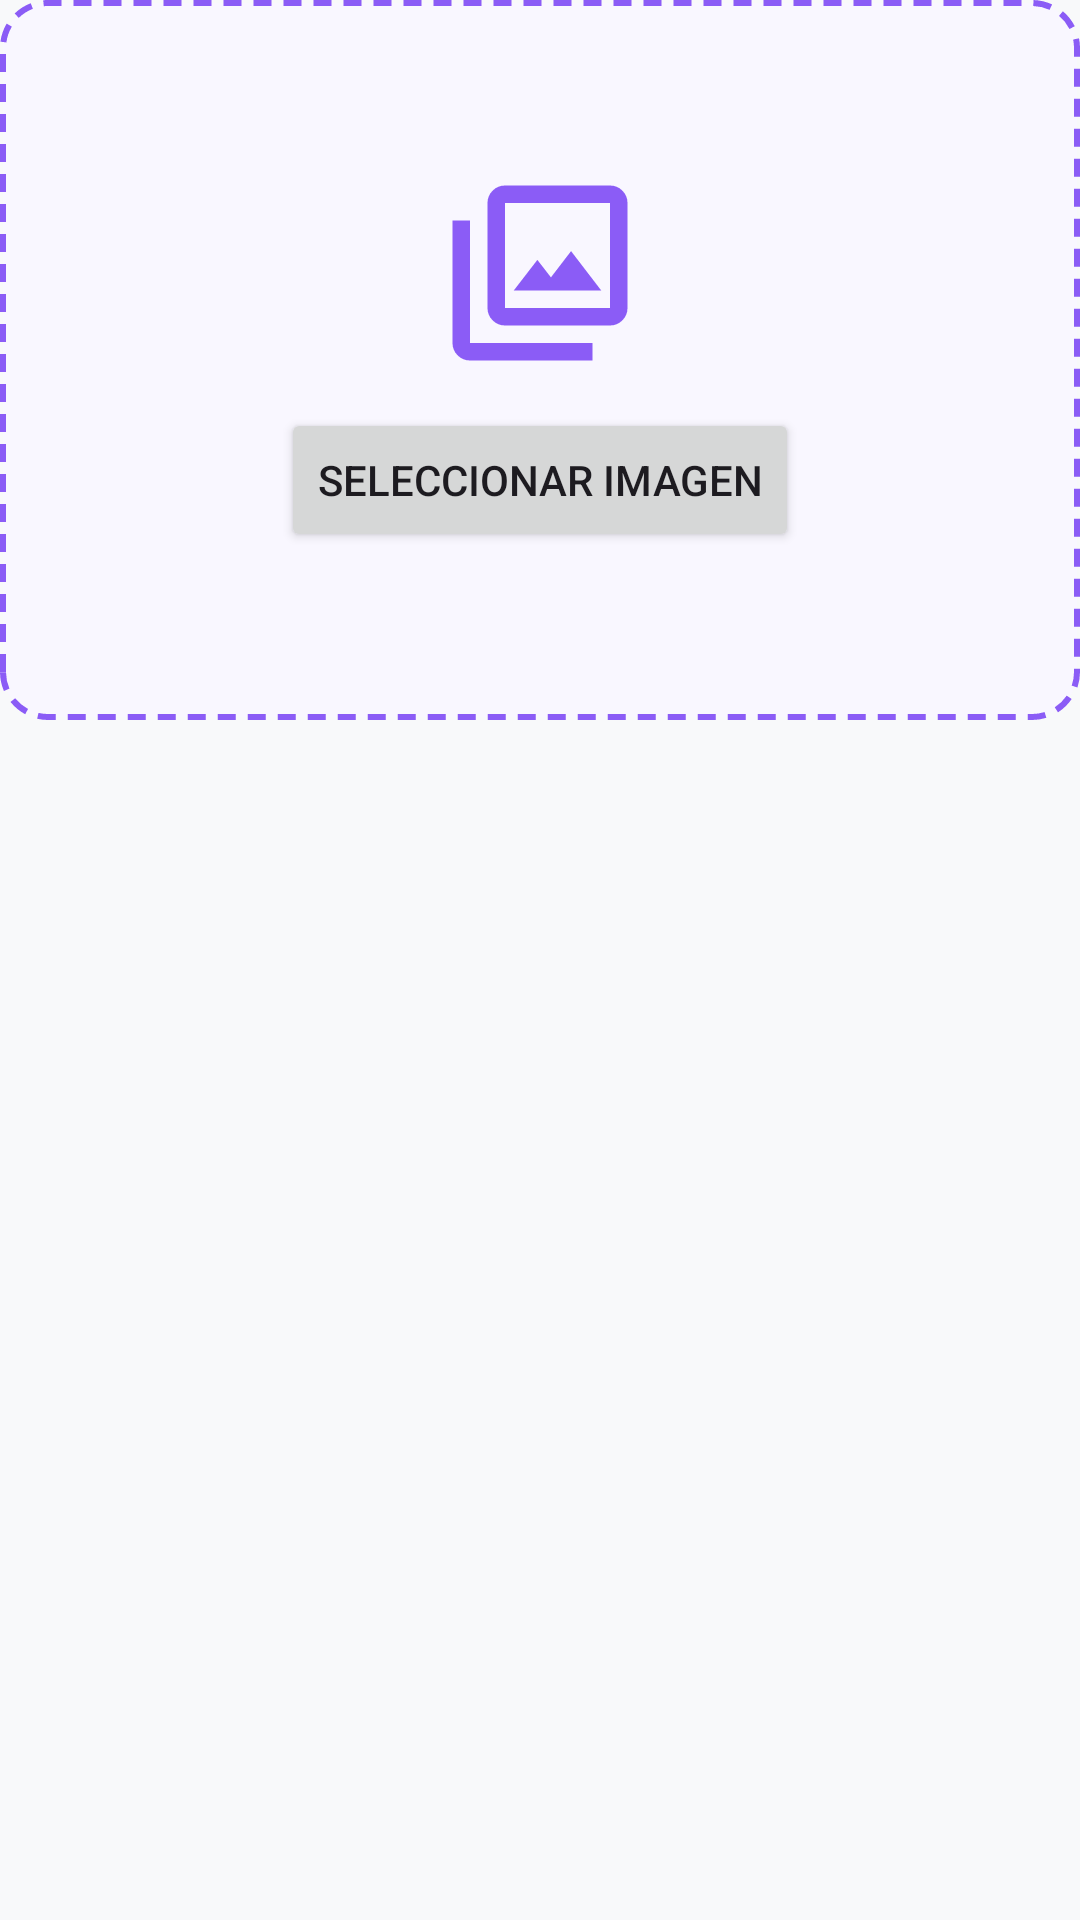

Icons on this 1080w x 1920h Android screen, each with its box as BBox(x1, y1, x2, y2):
Ícono de imagen: BBox(452, 185, 628, 361)
